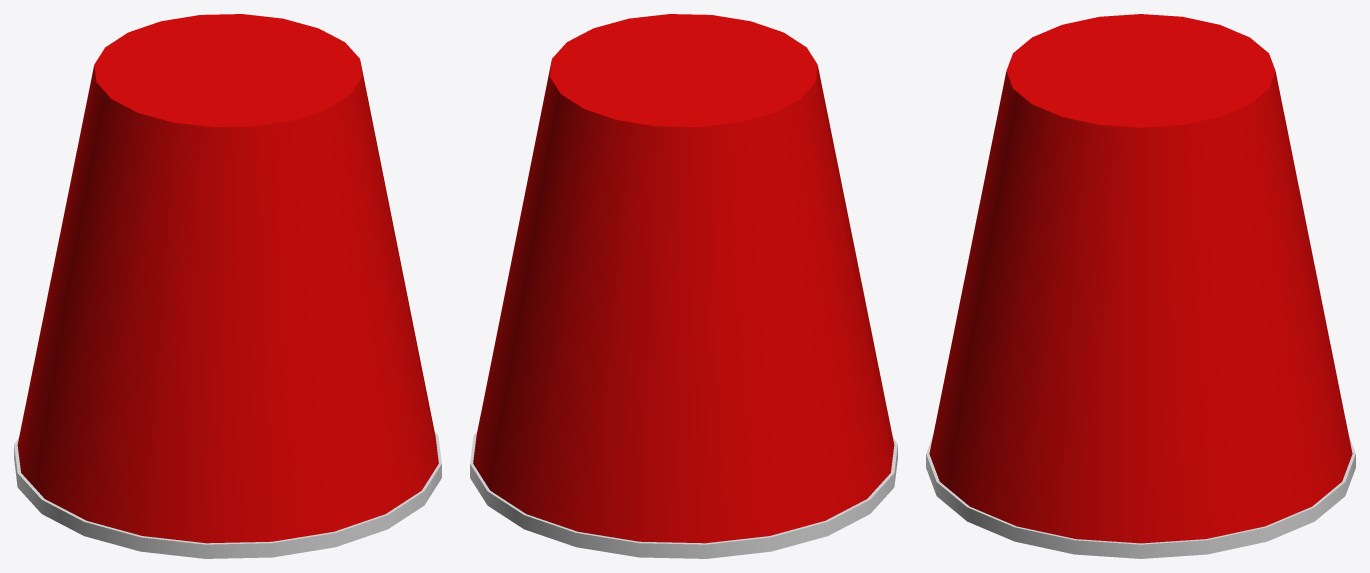
The model's file is VasoRefresco.fbx.
The picture shows the model from 3 angles, left to right: view 1: azimuth 30°, elevation 25°; view 2: azimuth 150°, elevation 25°; view 3: azimuth 270°, elevation 25°; orthographic projection.
Visible parts, largest first — view 1: pPipe13; view 2: pPipe13; view 3: pPipe13.
Boxes of the visible parts, x1=… form: pPipe13: x1=14, y1=14, x2=441, y2=558; pPipe13: x1=470, y1=14, x2=897, y2=558; pPipe13: x1=926, y1=14, x2=1355, y2=558.
Size of the model in its own units: 4.35 by 4.44 by 4.35.
